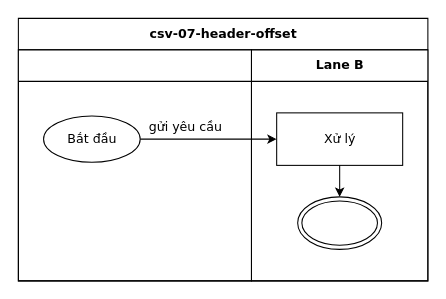
The diagram is 446 pixels wide and 299 high, and some of its shapes have lost their labels. The shapes that lost their labels are listed below. From the top down, each one's box as (x1, y1, x2, y2) in pixels, then its label:
(17, 49, 251, 281): Lane A
(297, 196, 382, 249): Xong
